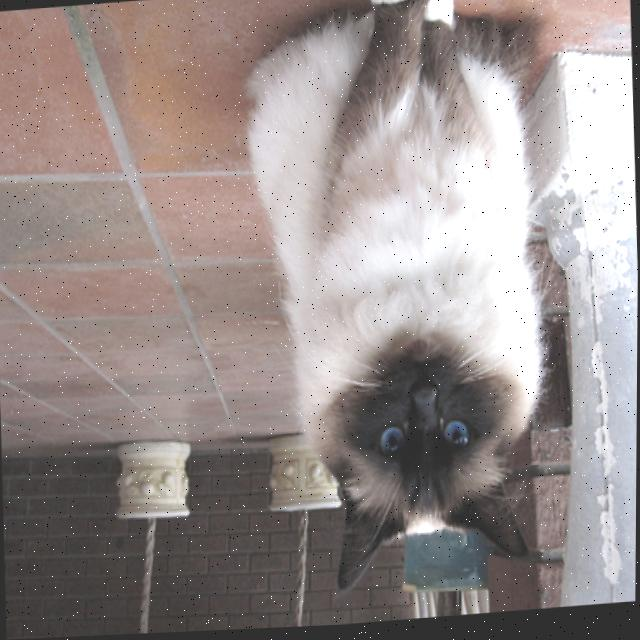Birman: (235, 0, 561, 612)
